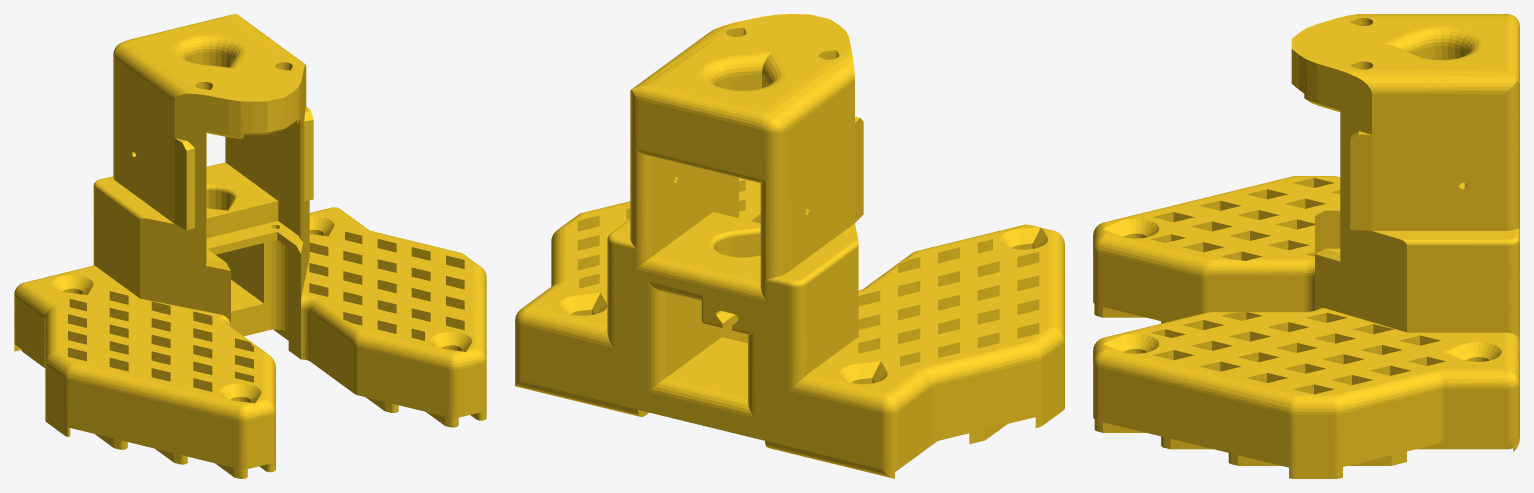
The model's file is base_visuals_base_so101_v2_mesh.obj.
3 renders of one model, left to right at view 1: azimuth 30°, elevation 25°; view 2: azimuth 150°, elevation 25°; view 3: azimuth 270°, elevation 25°, orthographic. The views are drawn at different scales.
Bounding box in the file's own units: 0.1109 × 0.072 × 0.087.
